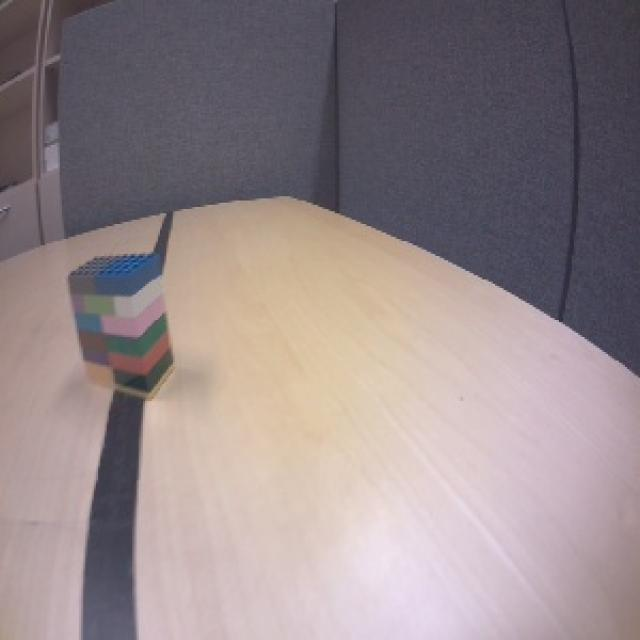obstacle: (64, 251, 179, 402)
